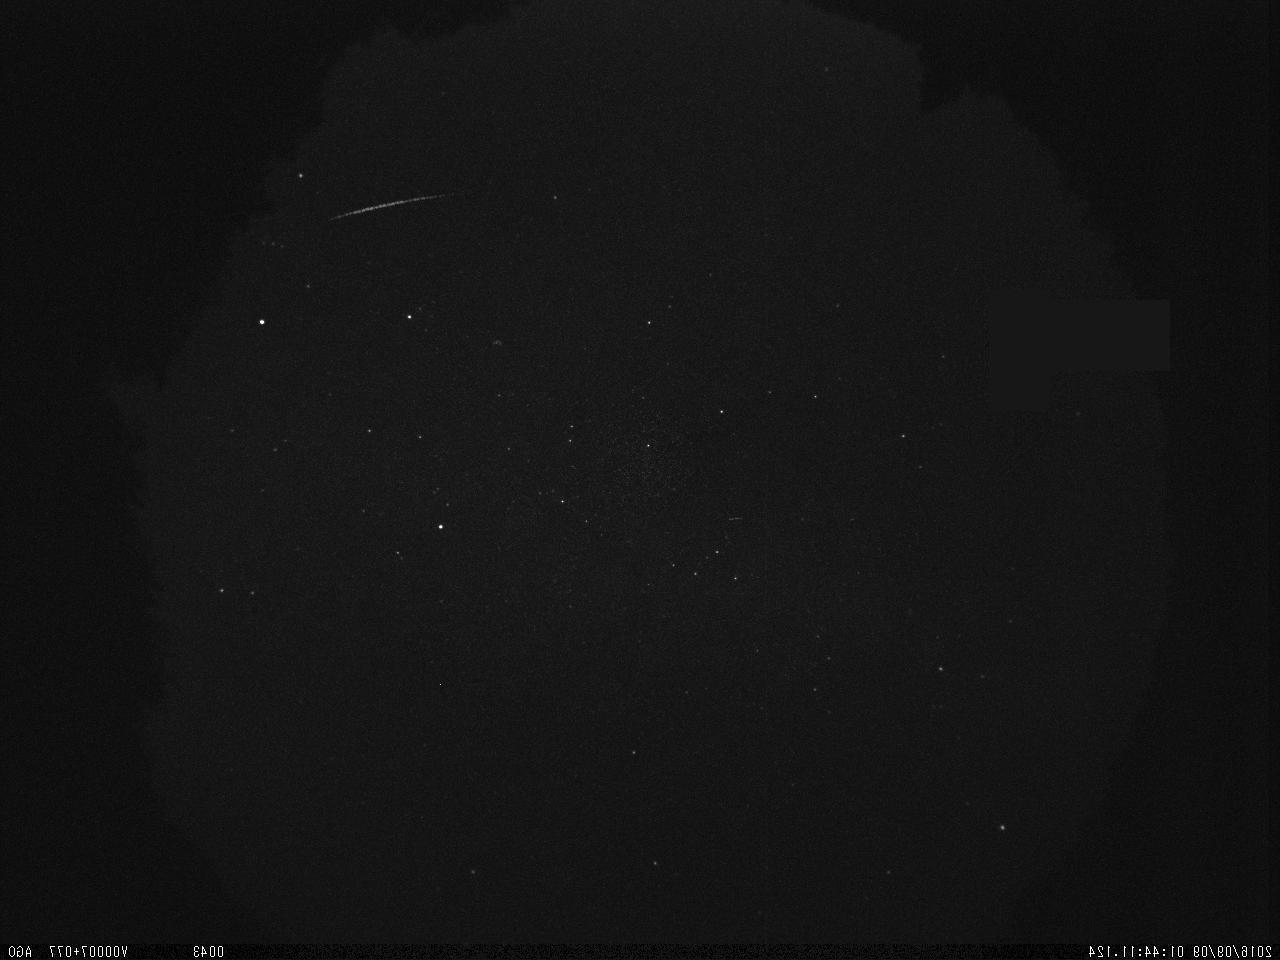meteor: (321, 176, 467, 235)
